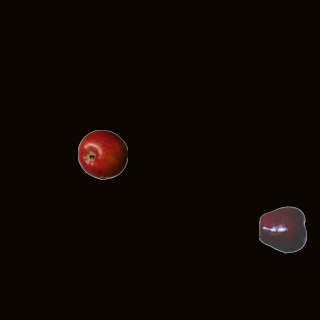Apple Braeburn: (77, 129, 127, 179)
Apple Red Delicious: (258, 204, 308, 254)
